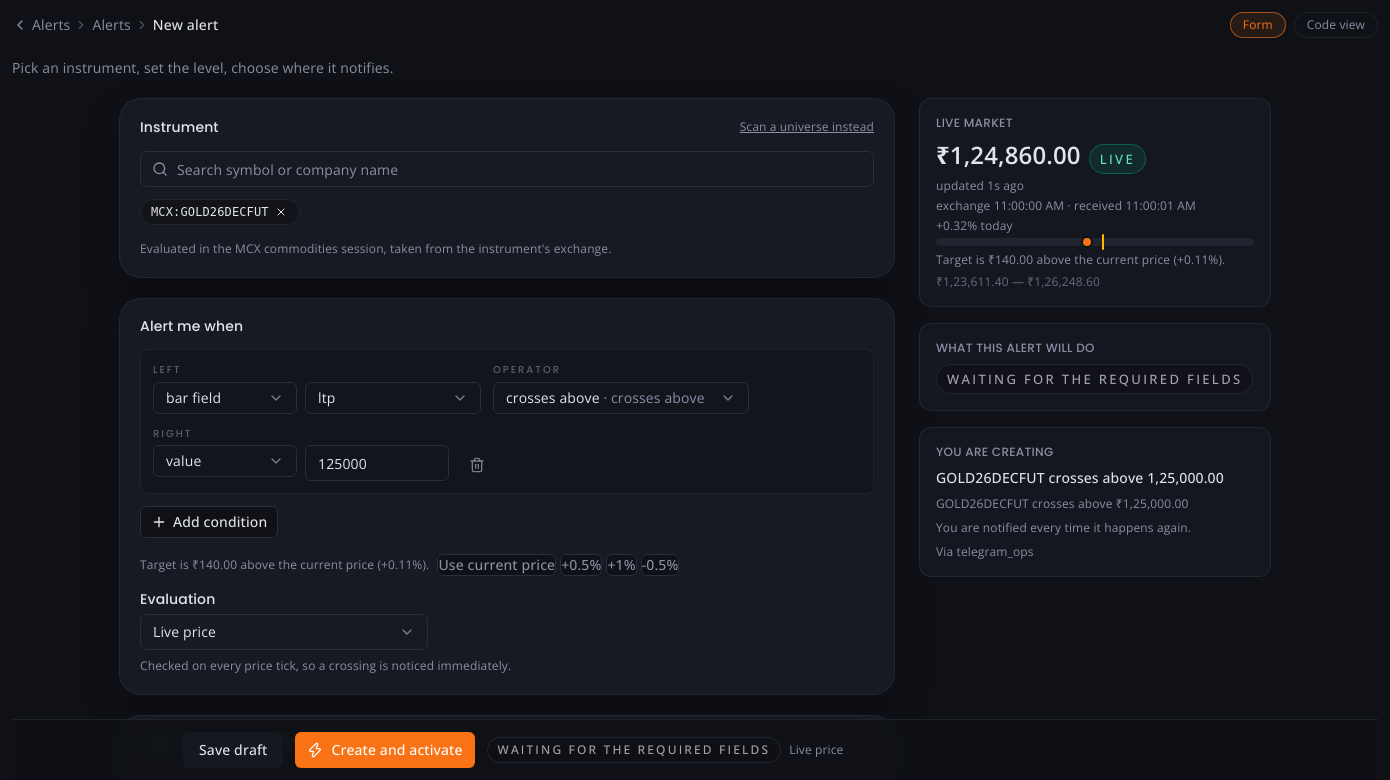
UnifiedAlertEditor › explains the distance to the target and offers shortcuts from the live price
Check: the text "Target is ₹140.00 above the current price (+0.11%)." below "Right" is shown, box [140,556,429,573]
Check: the button "Use current price" is shown, box [437,554,556,576]
Click the button "+1%".
click(622, 565)  # box [606,554,637,576]
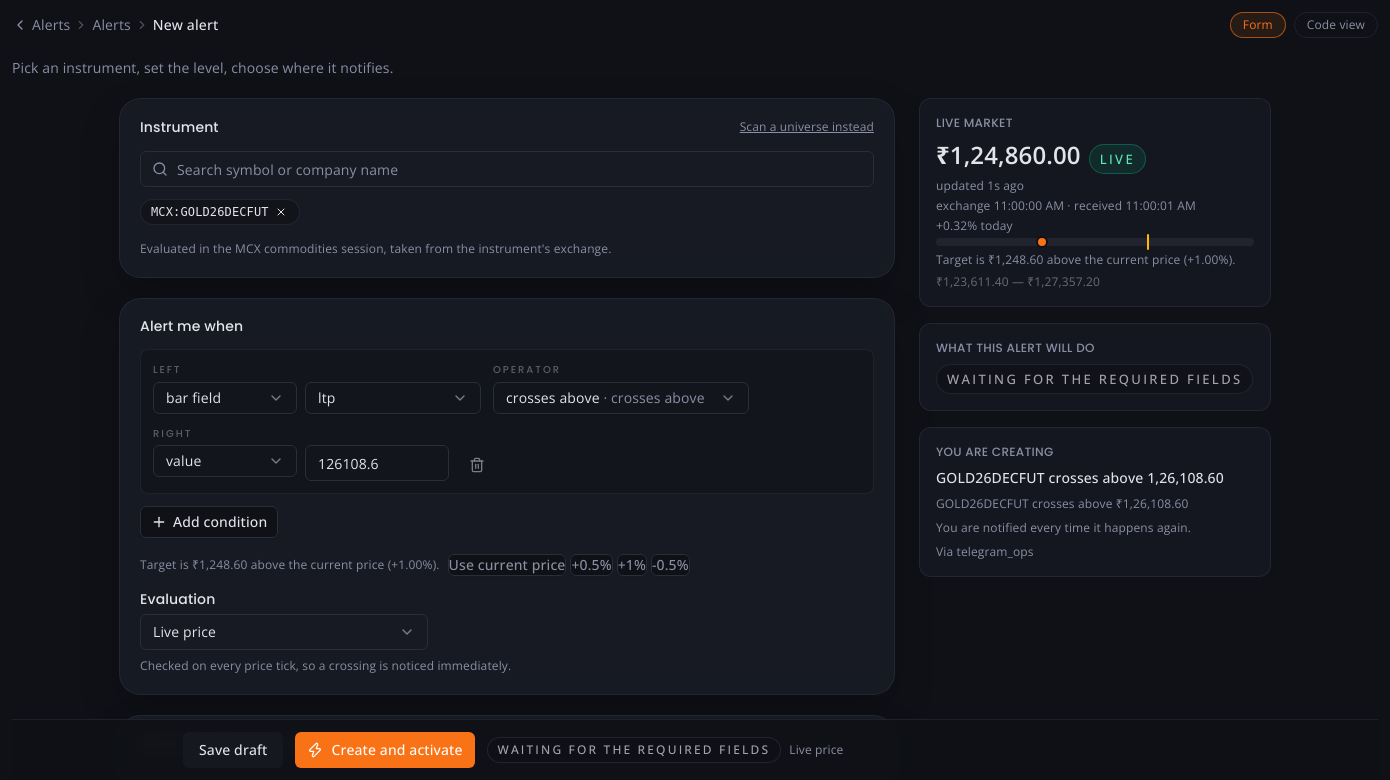
Check: the number field named "condition 1 right value" holds "126108.6", box [305,445,449,481]
